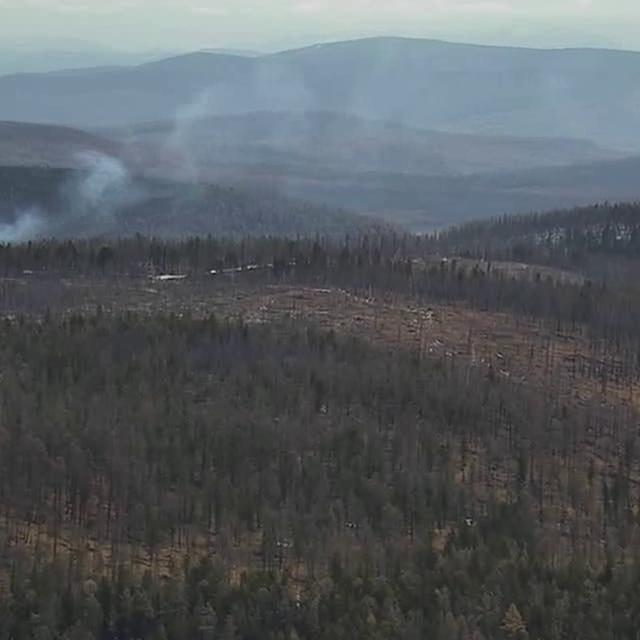Smoke: (1, 71, 307, 262)
